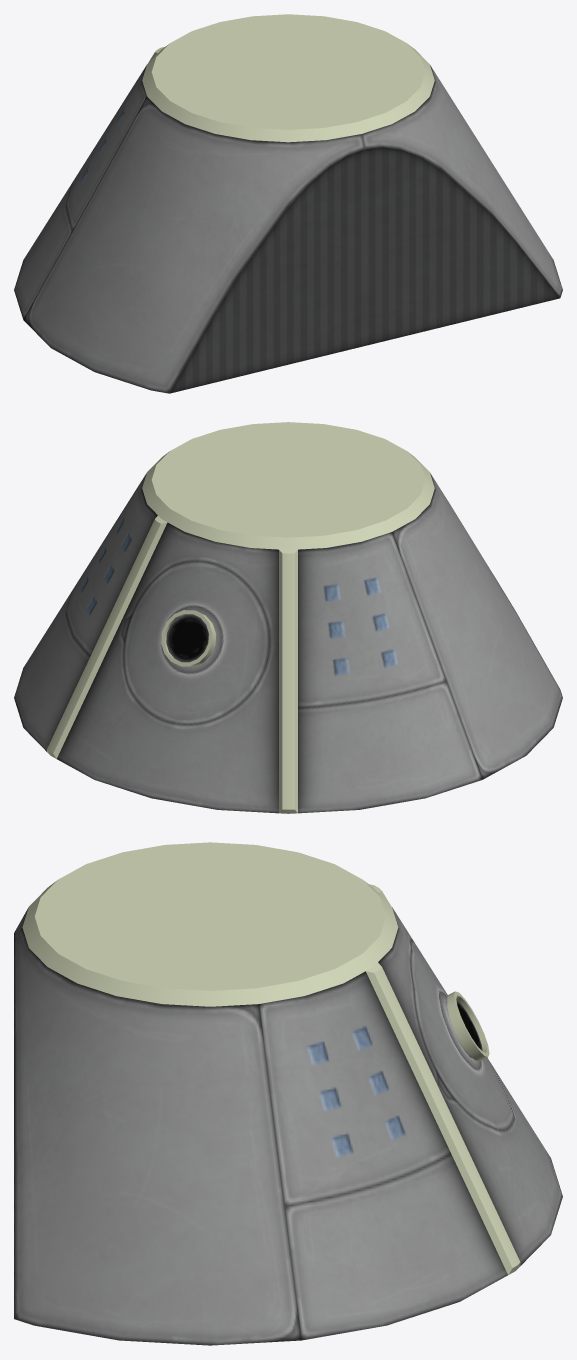
File: Alnair_Crew_1_Interior.obj
The picture shows the model from 3 angles, top to bottom: view 1: azimuth 30°, elevation 25°; view 2: azimuth 150°, elevation 25°; view 3: azimuth 270°, elevation 25°; orthographic projection. The views are drawn at different scales.
Parts seen in each view (by area): view 1: Alnair_Crew_1_Interior, Alnair_Crew_1_Interior_Mask; view 2: Alnair_Crew_1_Interior, Alnair_Crew_1_Interior_Mask, Alnair_Crew_1_Interior_Window; view 3: Alnair_Crew_1_Interior, Alnair_Crew_1_Interior_Mask.
Part boxes in pixels (<box>): Alnair_Crew_1_Interior: <box>14,65,562,393</box>; Alnair_Crew_1_Interior_Mask: <box>142,14,434,142</box>; Alnair_Crew_1_Interior: <box>14,473,562,813</box>; Alnair_Crew_1_Interior_Mask: <box>47,422,434,813</box>; Alnair_Crew_1_Interior_Window: <box>166,614,208,662</box>; Alnair_Crew_1_Interior: <box>14,907,562,1345</box>; Alnair_Crew_1_Interior_Mask: <box>22,842,520,1274</box>.
Bounding box in the file's own units: 1.79 × 0.7862 × 1.4.
